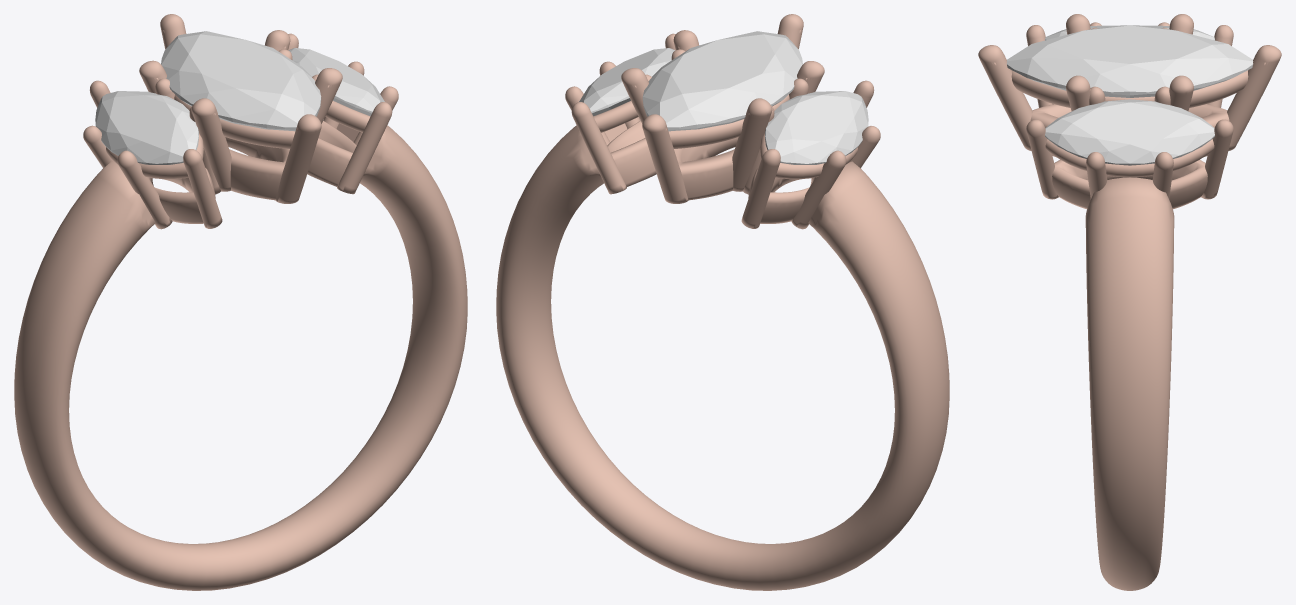
Rendered from diamond-marquise-rosegold-6prong-taperedband-3stone.glb.
The picture shows the model from 3 angles, left to right: view 1: azimuth 30°, elevation 25°; view 2: azimuth 150°, elevation 25°; view 3: azimuth 270°, elevation 25°; orthographic projection.
Visible parts, largest first — view 1: metal.001, stone.001, side.003, side.002; view 2: metal.001, stone.001, side.003, side.002; view 3: metal.001, stone.001, side.002, side.003.
Boxes of the visible parts, x1,y1,x2,y2 form: metal.001: (14, 14, 467, 590); stone.001: (161, 31, 321, 131); side.003: (95, 91, 198, 164); side.002: (288, 48, 384, 116); metal.001: (496, 14, 949, 590); stone.001: (642, 31, 802, 131); side.003: (765, 91, 868, 164); side.002: (579, 48, 675, 116); metal.001: (978, 14, 1281, 590); stone.001: (1006, 25, 1253, 97); side.002: (1045, 99, 1214, 165); side.003: (1045, 25, 1214, 40).
Bounding box in the file's own units: 20.09 × 22.73 × 11.96.
